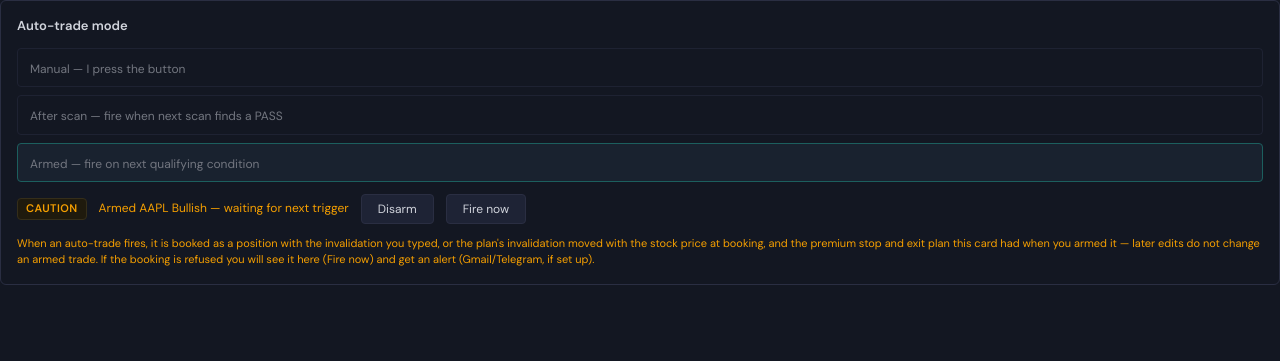
Test: AutoTradeArm — O4 step 6: reading the /fire result › 13. over_exposure renders a caution naming the booking, and still syncs
This screenshot has width=1280, height=361.
Click the button "Fire now" at [486, 209], box [446, 194, 526, 224]
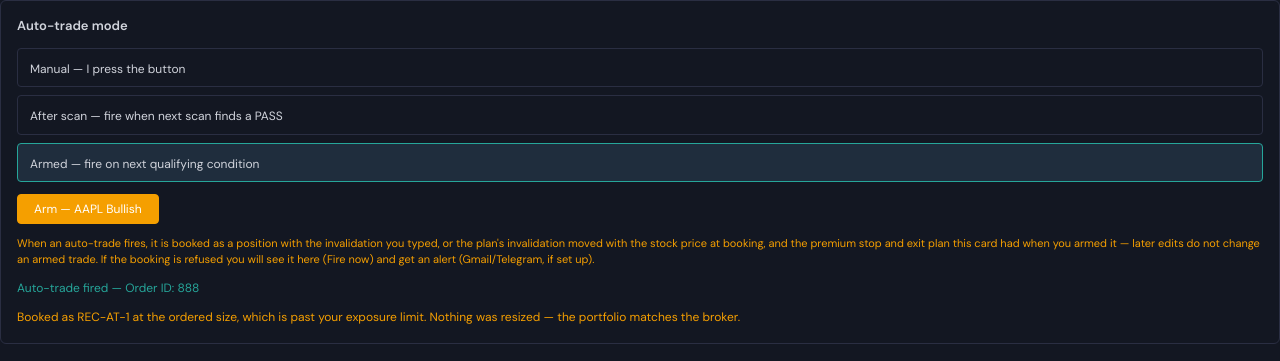
Now the text "Booked as REC-AT-1 at the ordered size, which is past your exposure limit" is shown, box [17, 309, 740, 325]
